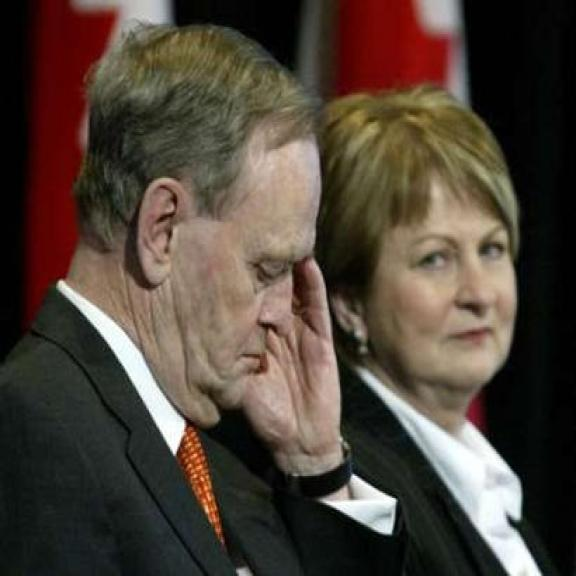face: (154, 86, 317, 424), (331, 141, 522, 392)
